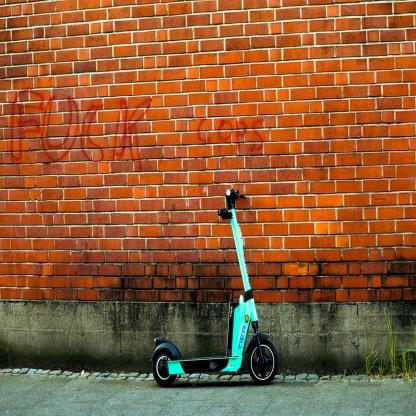kickboard: (141, 188, 287, 388)
